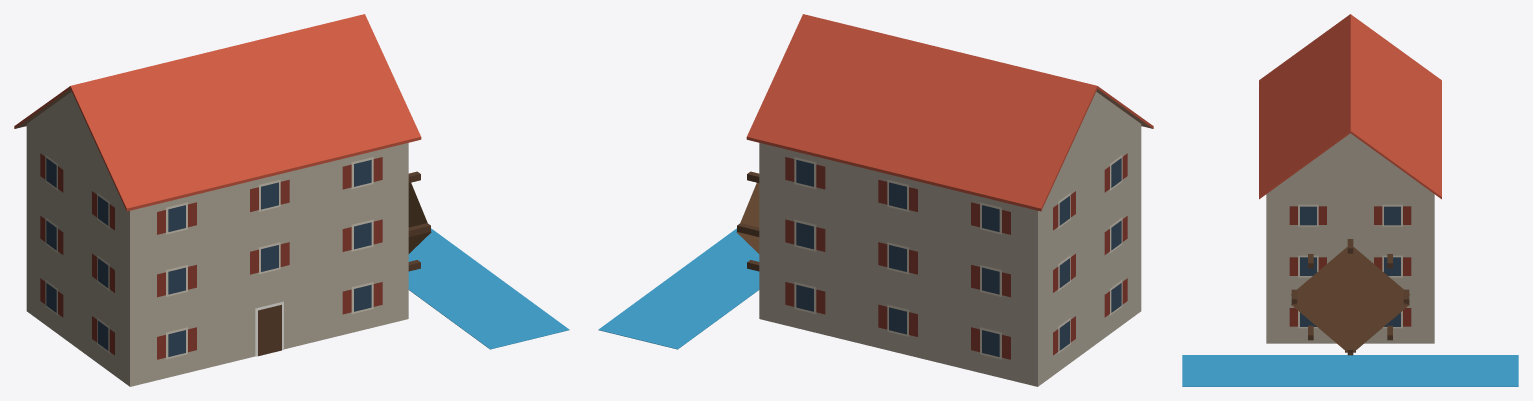
The model's file is moulin_eau.glb.
The picture shows the model from 3 angles, left to right: view 1: azimuth 30°, elevation 25°; view 2: azimuth 150°, elevation 25°; view 3: azimuth 270°, elevation 25°; orthographic projection. The views are drawn at different scales.
Visible parts, largest first — view 1: moulin_eau; view 2: moulin_eau; view 3: moulin_eau.
Boxes of the visible parts, x1,y1,x2,y2 form: moulin_eau: (14, 14, 569, 386); moulin_eau: (598, 14, 1153, 386); moulin_eau: (1182, 14, 1518, 386).
Size of the model in its own units: 19.9 by 12.74 by 18.
1 material, 1 textured.
